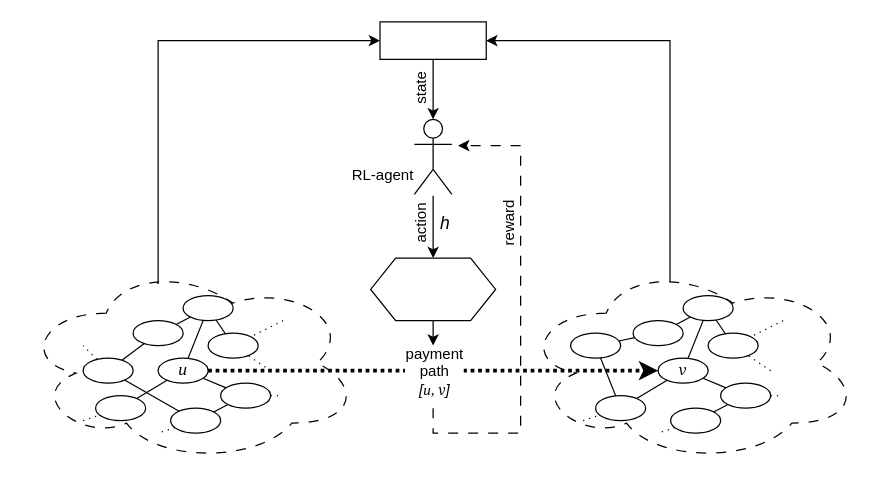
This 893x493 diagram has some shape labels left out. Each missing label, with the centre of its shape:
"neighborhood observation" goes at point (432, 40).
"pathfinding algorithm" goes at point (432, 289).
